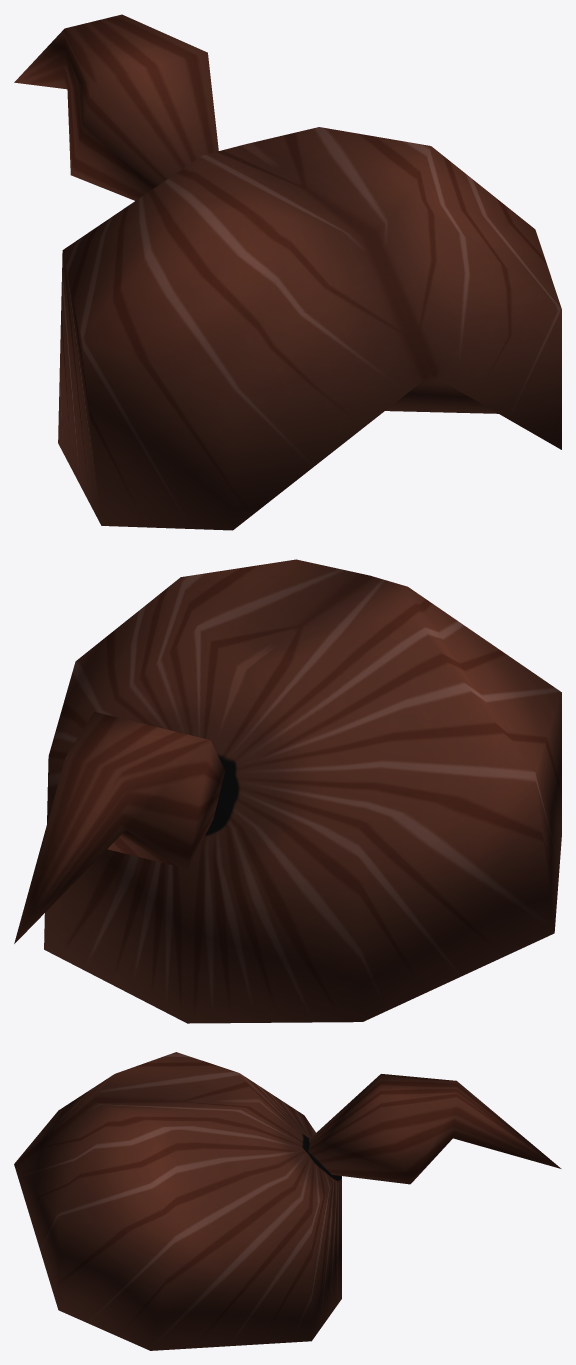
The model's file is Hair_Ponytail2.FBX.
3 renders of one model, top to bottom at view 1: azimuth 30°, elevation 25°; view 2: azimuth 150°, elevation 25°; view 3: azimuth 270°, elevation 25°, orthographic. The views are drawn at different scales.
Visible parts, largest first — view 1: Hair_PonyTail; view 2: Hair_PonyTail; view 3: Hair_PonyTail.
Boxes of the visible parts, x1,y1,x2,y2 form: Hair_PonyTail: (14, 14, 561, 530); Hair_PonyTail: (14, 559, 561, 1023); Hair_PonyTail: (14, 1052, 561, 1350).
Bounding box in the file's own units: 278 × 186 × 440.
Materials: 1 (1 with a texture image).
